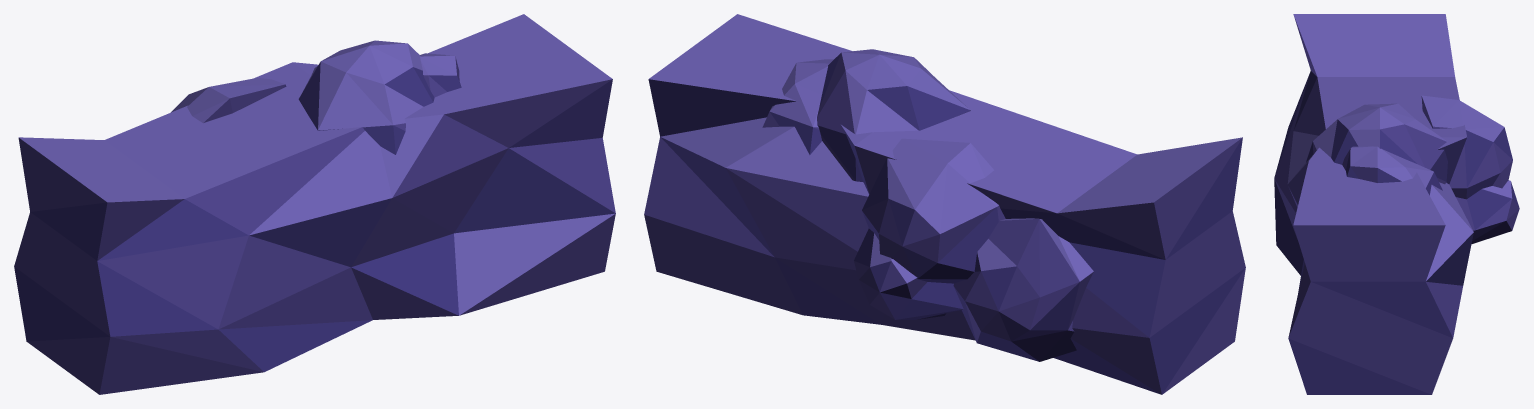
Rendered from Mine_FrontWall_B.obj.
3 views of the same model, side by side, from view 1: azimuth 30°, elevation 25°; view 2: azimuth 150°, elevation 25°; view 3: azimuth 270°, elevation 25° (orthographic). The views are drawn at different scales.
Visible parts, largest first — view 1: Mine_FrontWall_B; view 2: Mine_FrontWall_B; view 3: Mine_FrontWall_B.
Part boxes in pixels (x1=…): Mine_FrontWall_B: x1=14, y1=14, x2=615, y2=394; Mine_FrontWall_B: x1=644, y1=14, x2=1245, y2=394; Mine_FrontWall_B: x1=1274, y1=14, x2=1519, y2=394.
Size of the model in its own units: 4 by 1.83 by 1.97.
